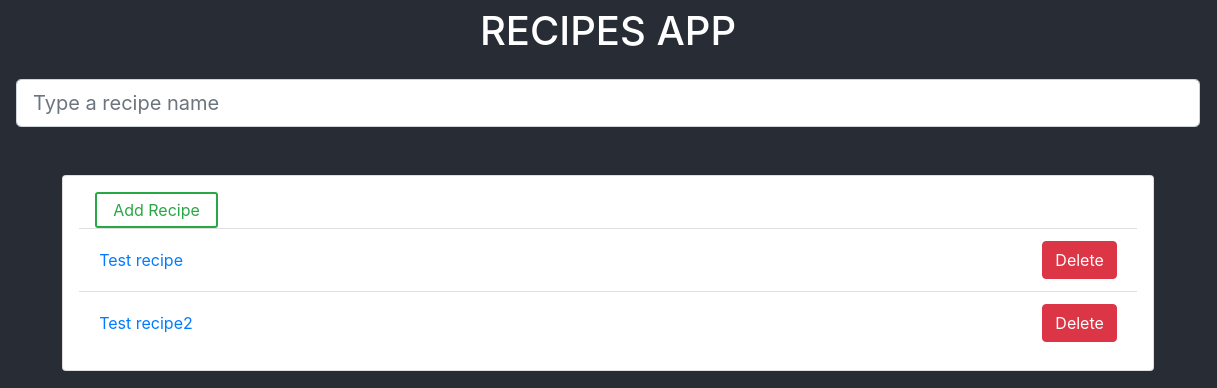
it: <RecipeList /> › should delete a recipe
Click the 1st button "Delete".
click(1080, 260)  # box [1042,241,1117,279]
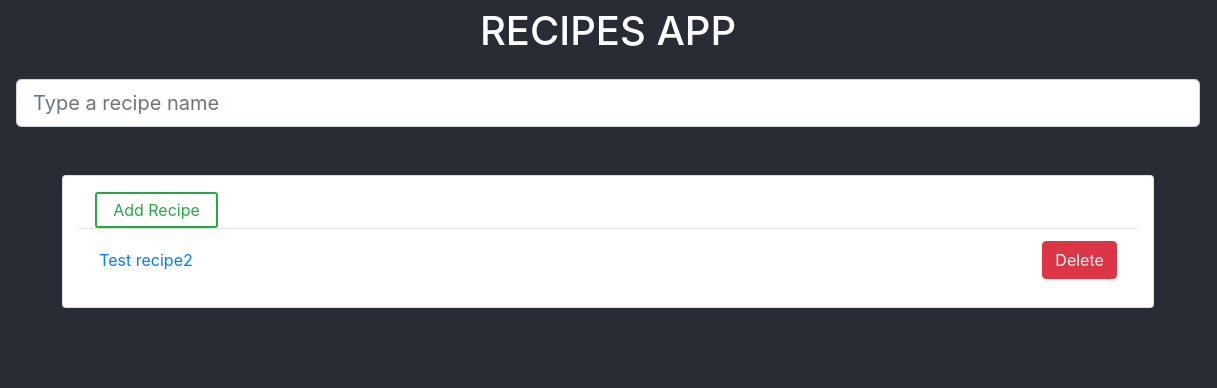
expect the number of buttons "Delete" is 1: met, box [1042,241,1117,279]
